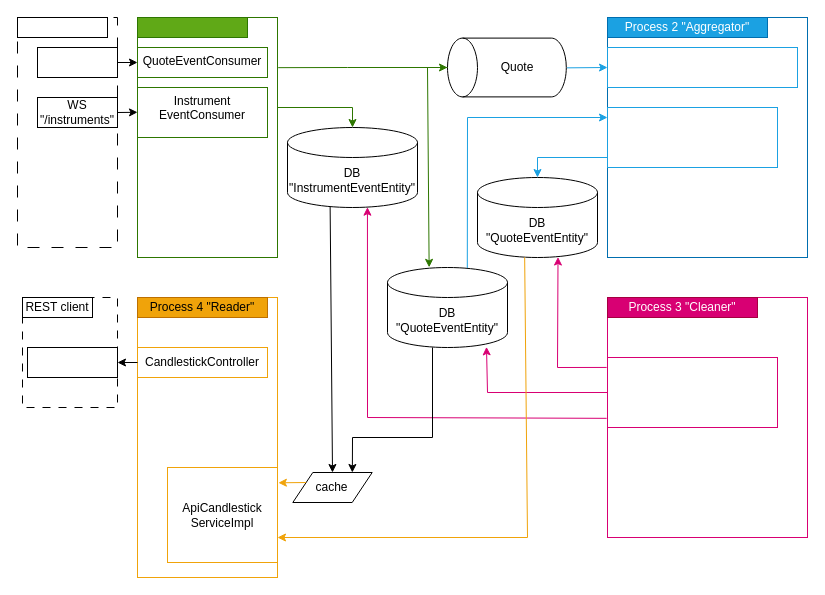
Some shapes in this 825 by 595 pixel diagram are drawn without their labels. The shapes that lost their labels are listed below. From the top down, each one's centre as x and y in pixels, then its label:
the point at 62,27: Friend-service
the point at 192,27: Process 1 "Writer"
the point at 77,62: WS "/quotes"
the point at 702,67: AggregatorQuoteEventConsumer
the point at 692,137: QuoteAggregator ComponentManagerImpl
the point at 72,362: GET "/candlesticks "
the point at 692,392: GarbageCollector ComponentManagerImpl
